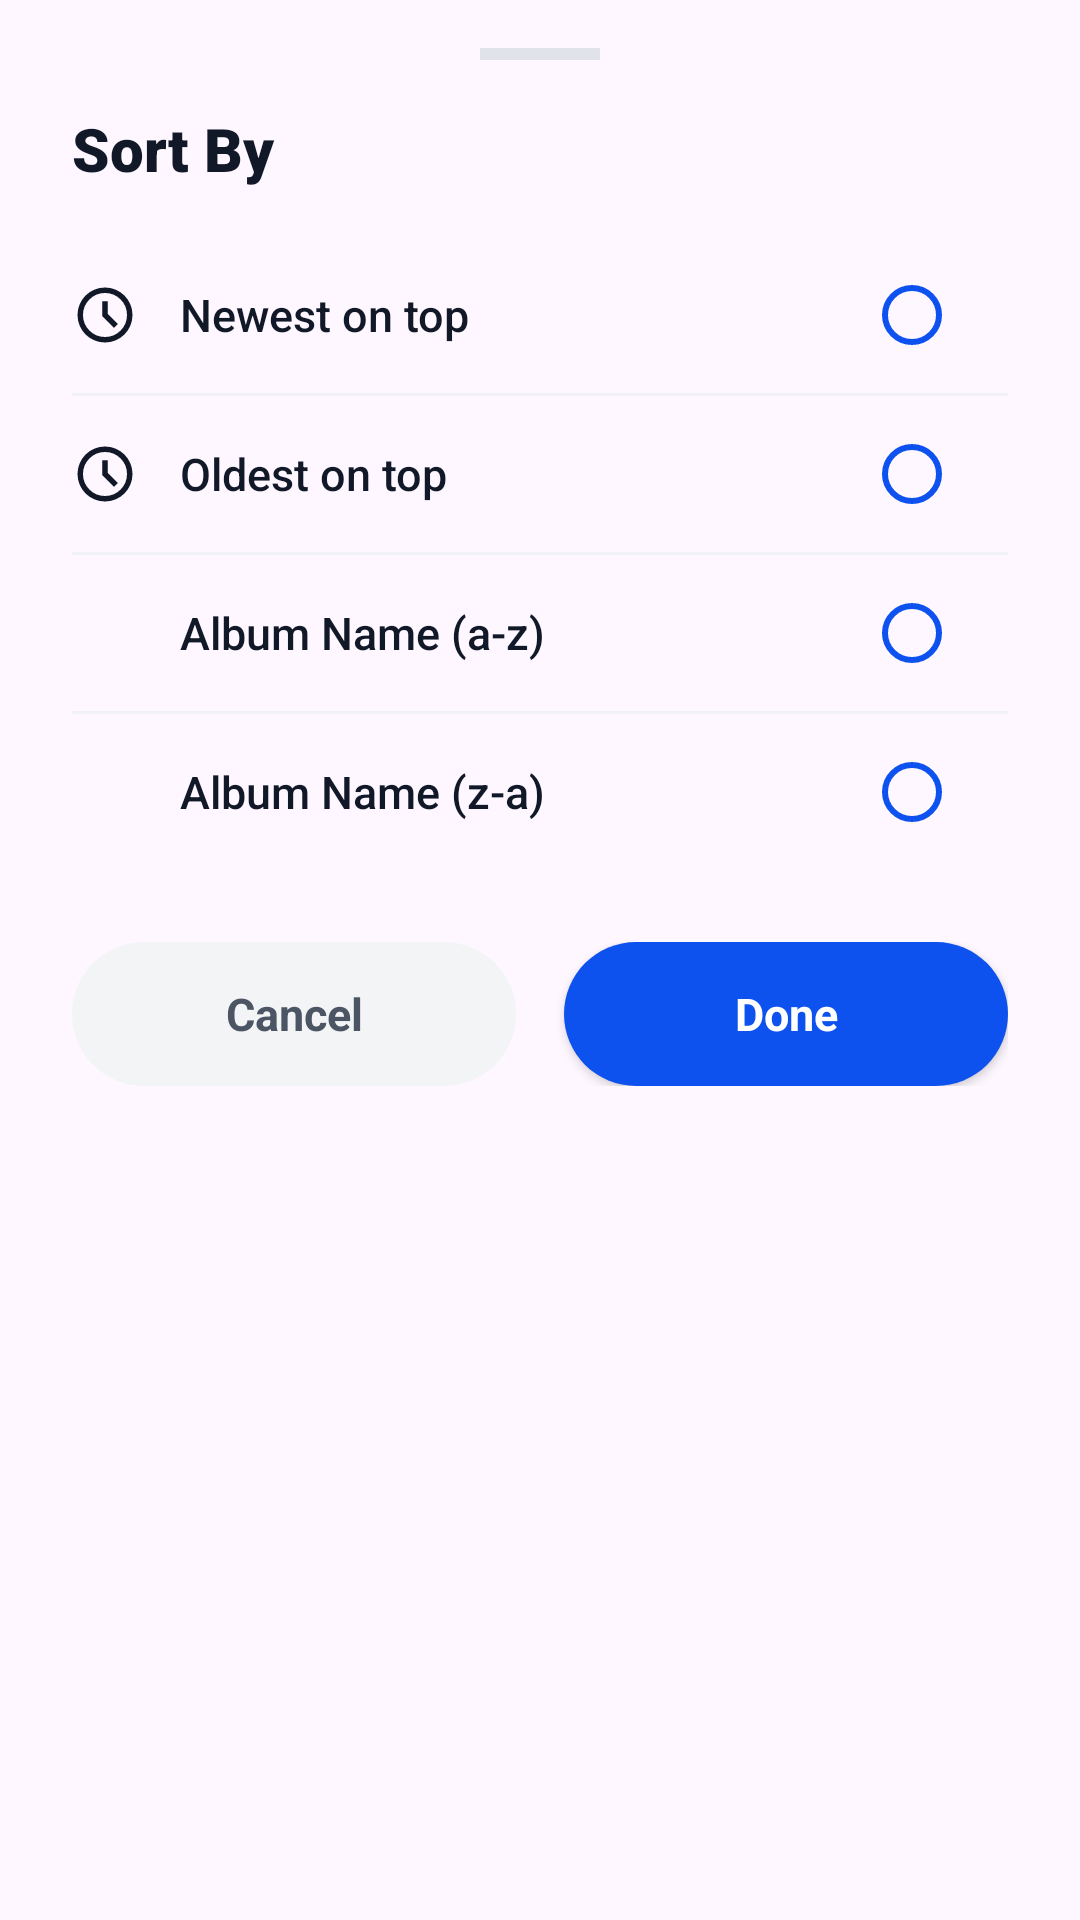

Icon click points for this 1080×1920 phone screenshot, format (x=x, y=y):
schedule: (x=105, y=315), (x=105, y=474)
